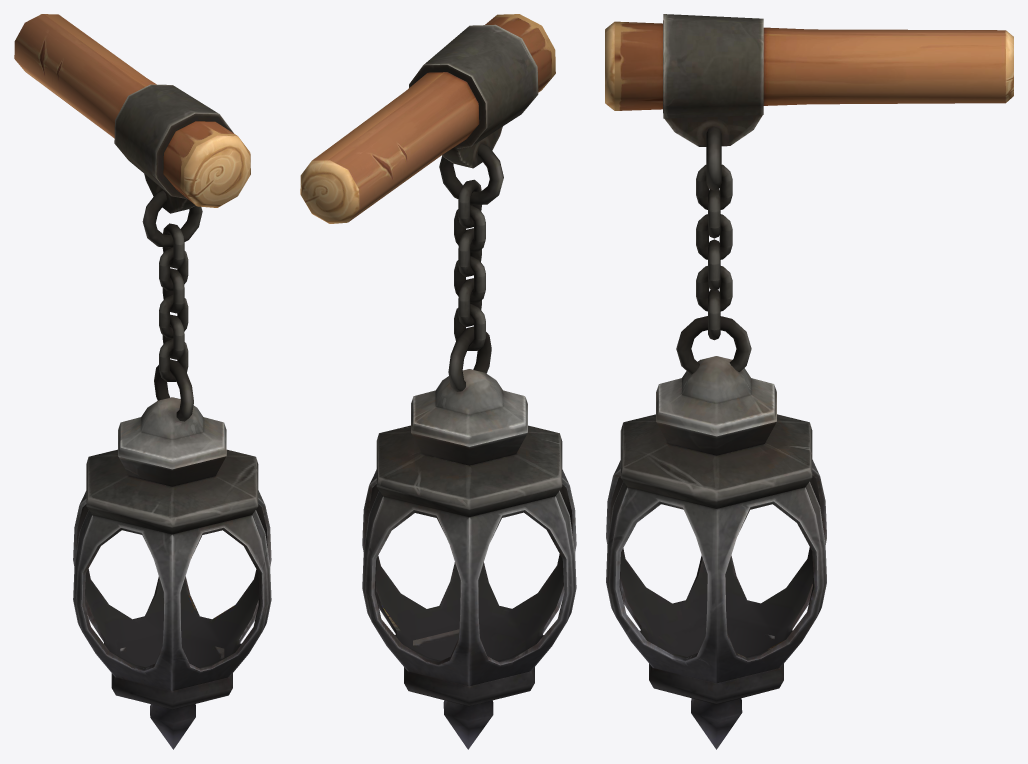
File: DE_Lamp_02.fbx
3 renders of one model, left to right at view 1: azimuth 30°, elevation 25°; view 2: azimuth 150°, elevation 25°; view 3: azimuth 270°, elevation 25°, orthographic. The views are drawn at different scales.
Parts seen in each view (by area): view 1: DE_Lamp_02; view 2: DE_Lamp_02; view 3: DE_Lamp_02.
Part boxes in pixels (x1=…): DE_Lamp_02: x1=14, y1=14, x2=271, y2=749; DE_Lamp_02: x1=300, y1=14, x2=576, y2=749; DE_Lamp_02: x1=605, y1=14, x2=1013, y2=749.
Bounding box in the file's own units: 0.9179 × 2.99 × 1.52.
